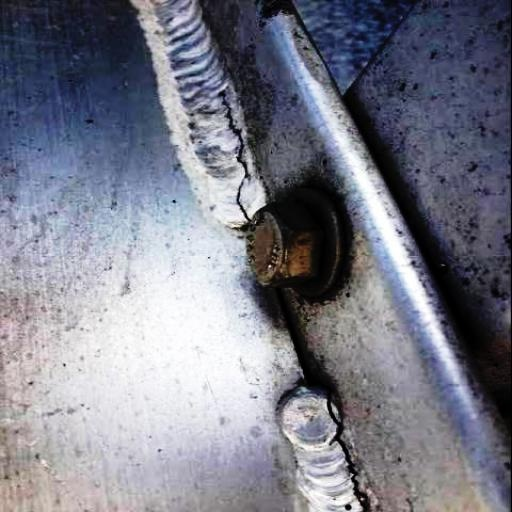crack: (210, 76, 259, 228), (323, 383, 367, 512)
